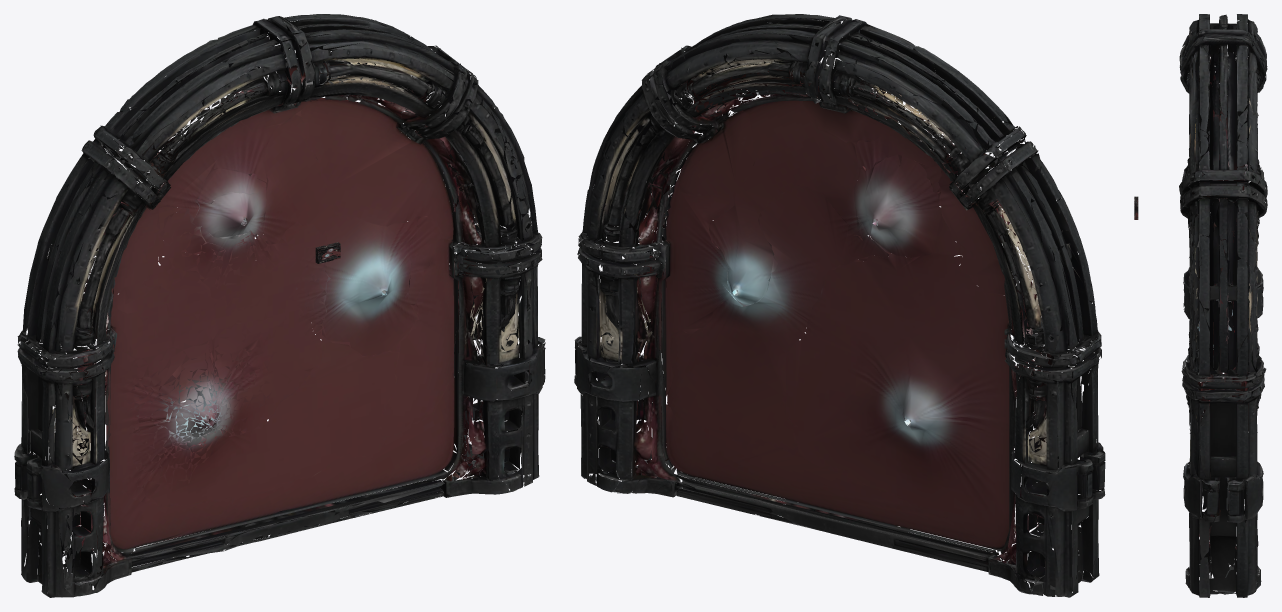
Rendered from secret_wall_memory_skin.glb.
3 renders of one model, left to right at view 1: azimuth 30°, elevation 25°; view 2: azimuth 150°, elevation 25°; view 3: azimuth 270°, elevation 25°, orthographic. The views are drawn at different scales.
Visible parts, largest first — view 1: node_0; view 2: node_0; view 3: node_0.
Part boxes in pixels (x1,y1,x2,y2): node_0: (14,14,545,597); node_0: (574,14,1105,597); node_0: (1179,14,1267,597).
Size of the model in its own units: 0.9048 by 0.8456 by 0.2235.
1 material, 1 textured.
